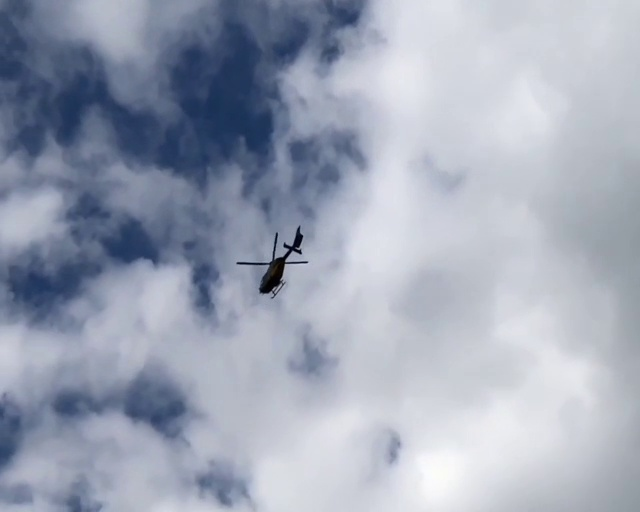HELICOPTER: (236, 226, 307, 299)
